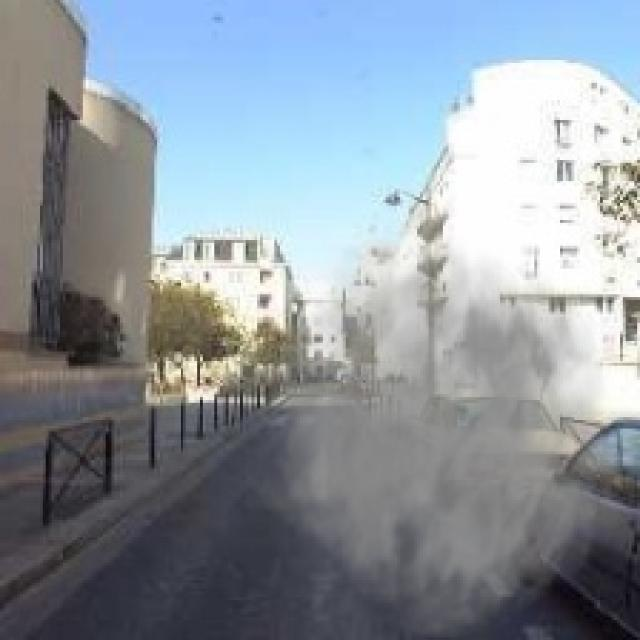smoke: (246, 214, 628, 637)
